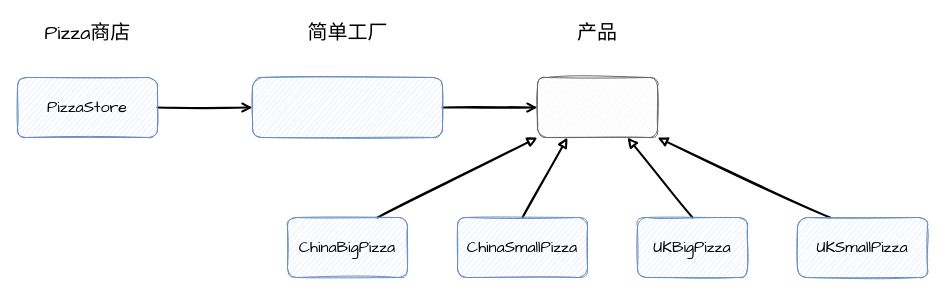
This 945x295 diagram has some shape labels left out. Each missing label, with the centre of its shape:
"Pizza" goes at point 597,107.
"SimplePizzaFactory" goes at point 347,107.
